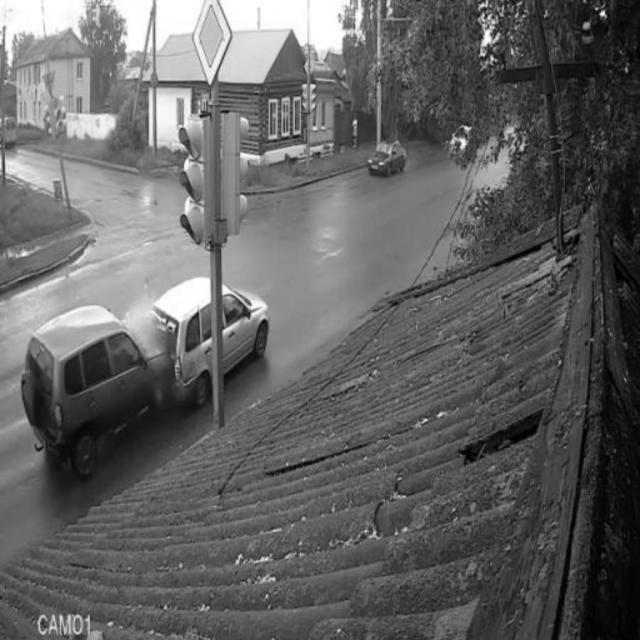accident: (24, 279, 270, 473)
vehicle: (364, 135, 408, 179)
